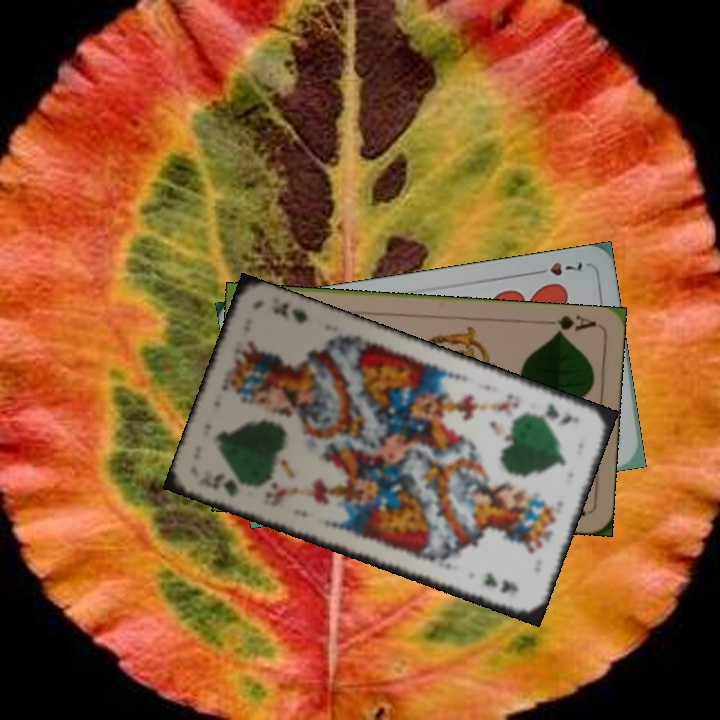GA: (540, 311, 599, 338)
GK: (527, 399, 583, 428), (218, 475, 253, 500)
H7: (529, 258, 587, 279)
